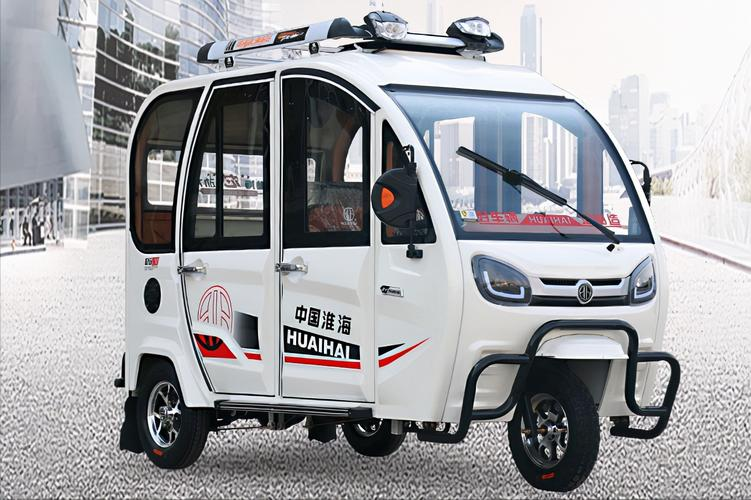empty: (91, 13, 695, 487)
